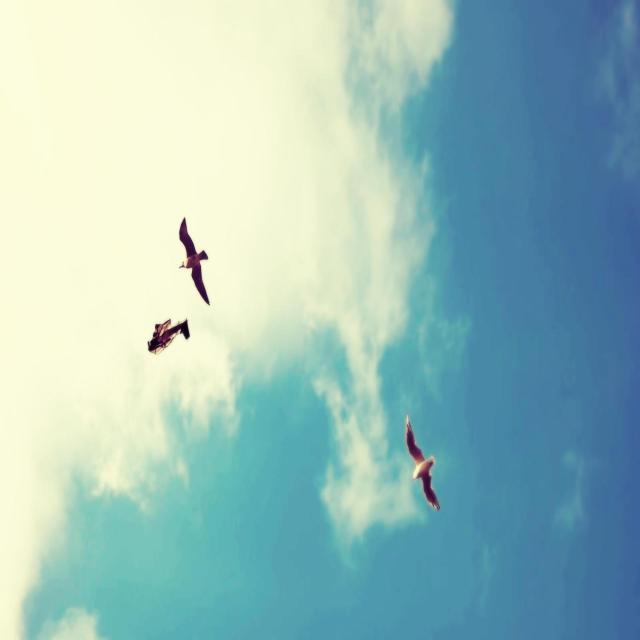airplane: (147, 317, 190, 355)
